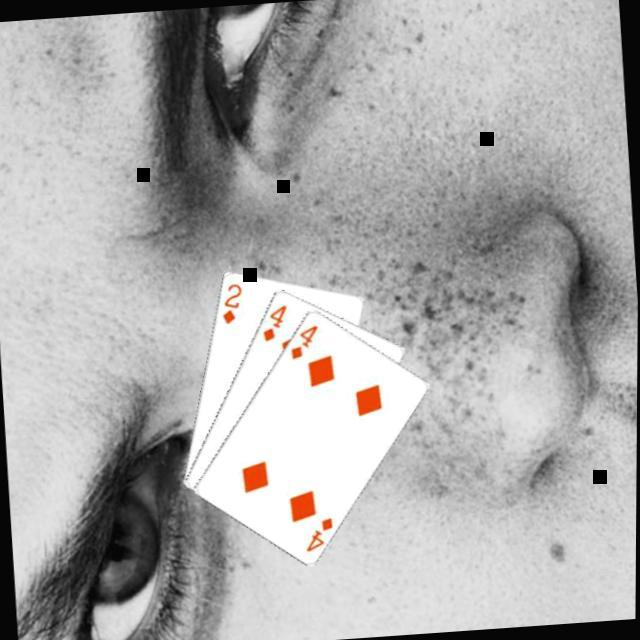2D: (215, 281, 245, 329)
4D: (283, 322, 321, 364), (298, 515, 336, 557), (254, 302, 289, 346)
